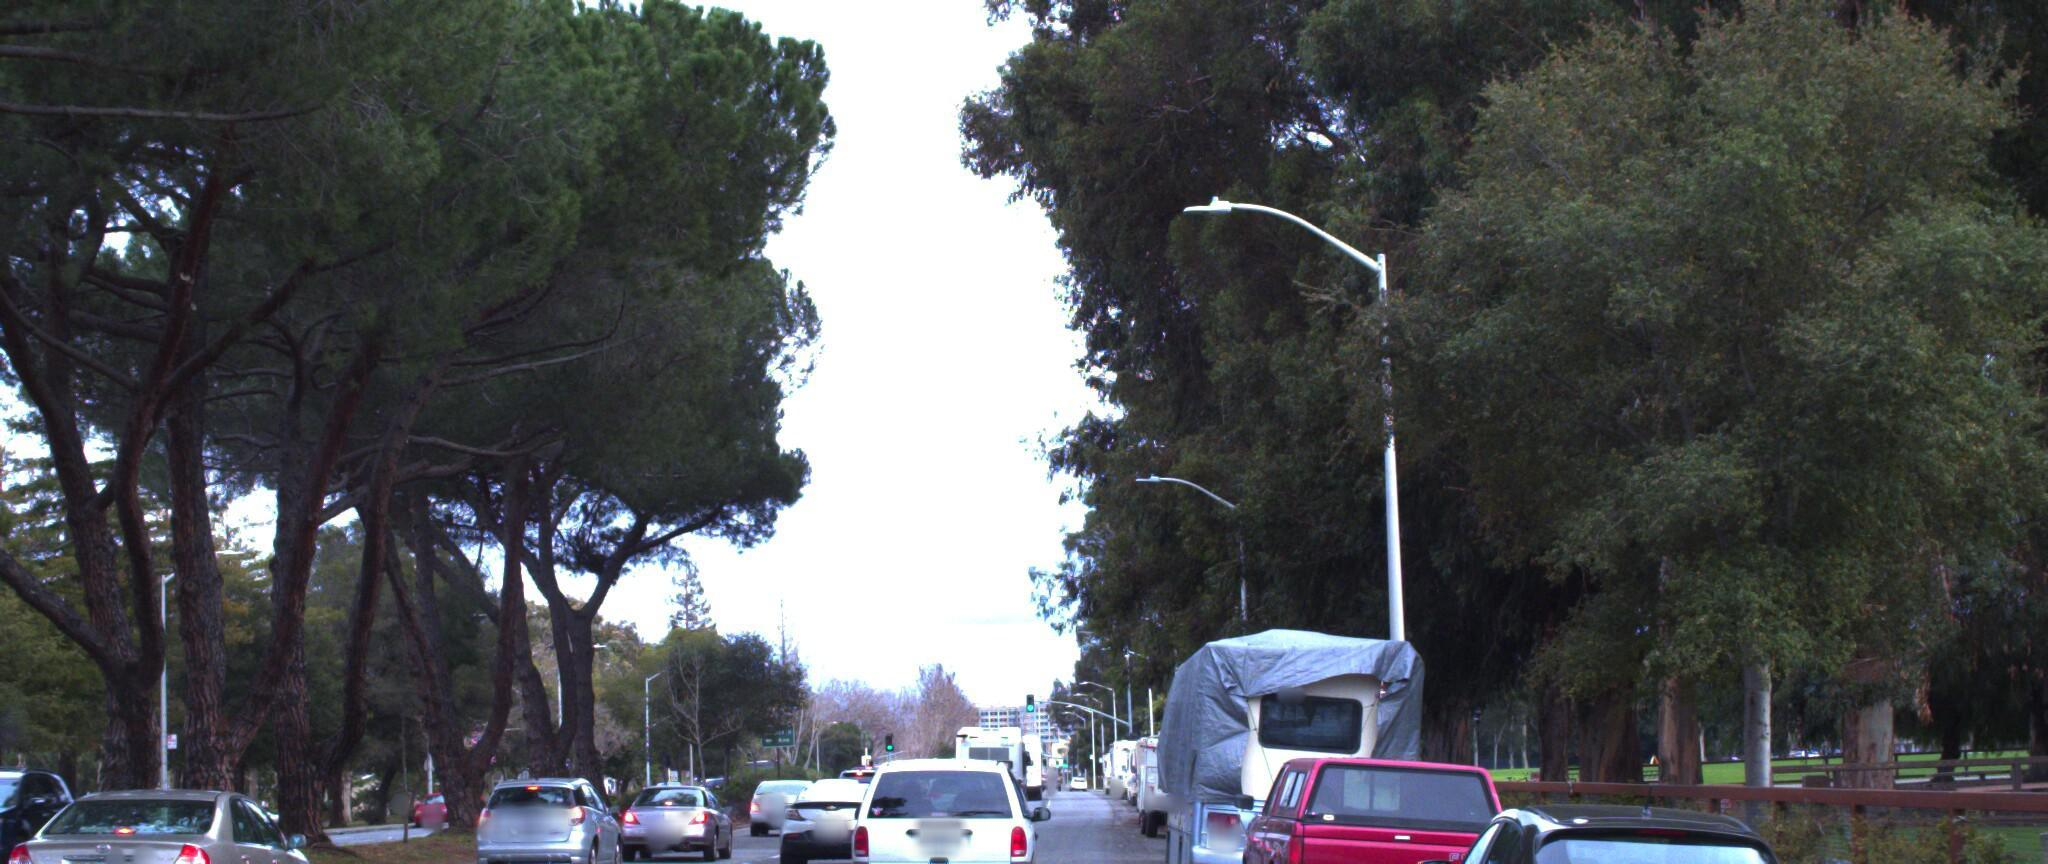car: (1221, 743, 1533, 864), (0, 764, 344, 864), (1384, 794, 1868, 864), (822, 733, 1038, 864), (461, 761, 633, 864), (600, 766, 731, 864), (759, 762, 889, 859), (0, 765, 80, 864), (737, 773, 819, 837)
other_vehicle: (1147, 606, 1447, 864), (1127, 726, 1240, 835)
